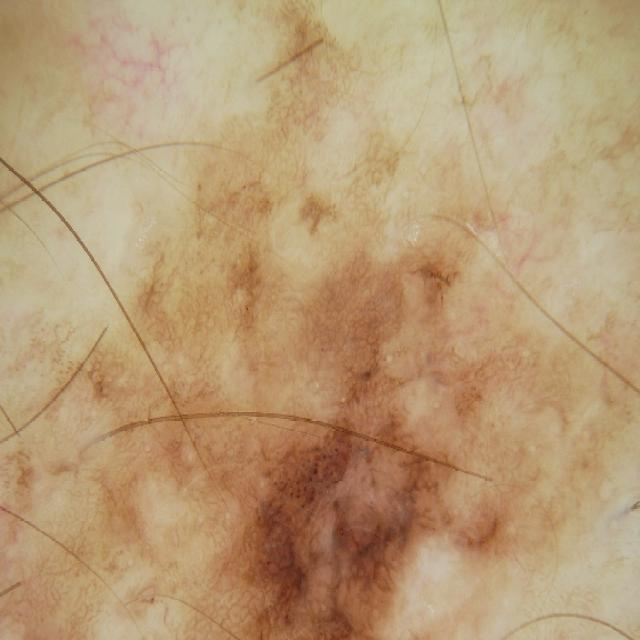Melanoma: (116, 163, 499, 640)
